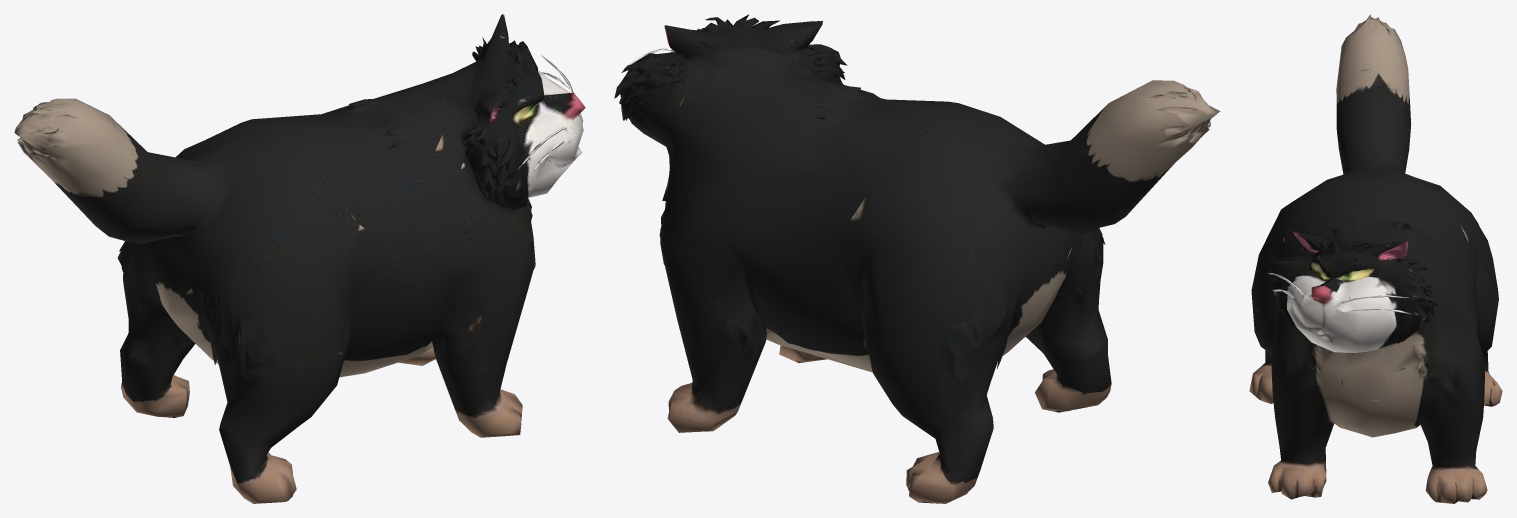
The model's file is TREMAINE-lo.glb.
3 renders of one model, left to right at view 1: azimuth 30°, elevation 25°; view 2: azimuth 150°, elevation 25°; view 3: azimuth 270°, elevation 25°, orthographic. The views are drawn at different scales.
Parts seen in each view (by area): view 1: tripo_node_c12a0024-d6d3-4d95-b98f-335bb6ab4392; view 2: tripo_node_c12a0024-d6d3-4d95-b98f-335bb6ab4392; view 3: tripo_node_c12a0024-d6d3-4d95-b98f-335bb6ab4392.
Part boxes in pixels (x1,y1,x2,y2): tripo_node_c12a0024-d6d3-4d95-b98f-335bb6ab4392: (14, 14, 585, 503); tripo_node_c12a0024-d6d3-4d95-b98f-335bb6ab4392: (614, 14, 1220, 503); tripo_node_c12a0024-d6d3-4d95-b98f-335bb6ab4392: (1249, 14, 1502, 503).
Bounding box in the file's own units: 1.48 × 0.9965 × 0.7227.
Materials: 1 (1 with a texture image).
